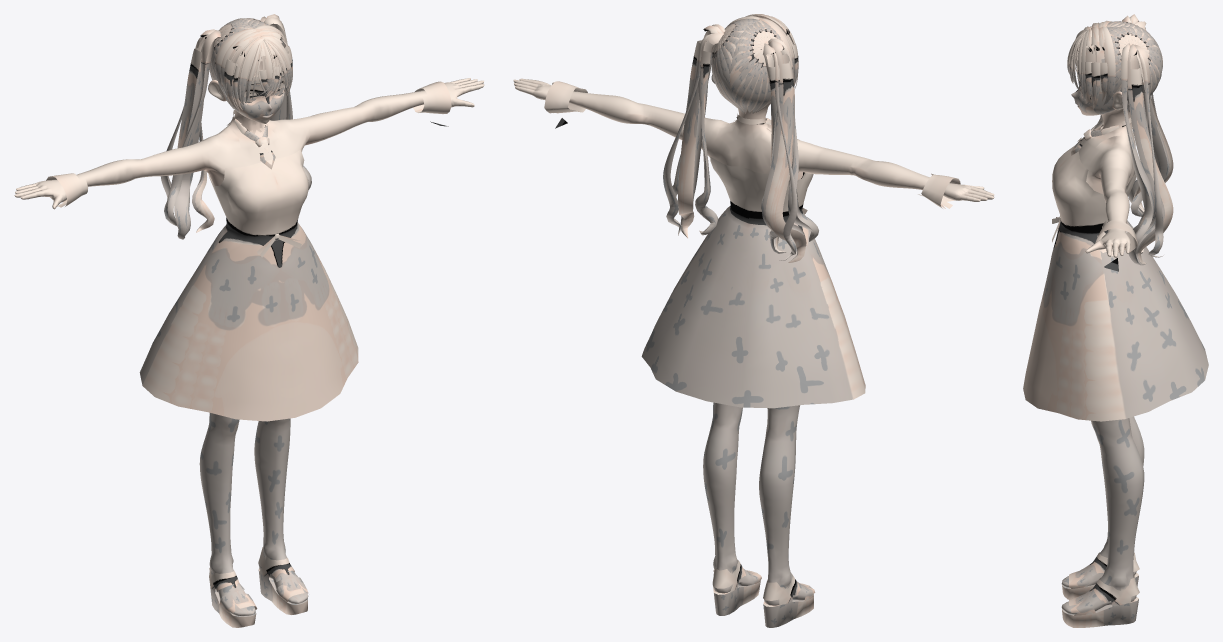
3 renders of one model, left to right at view 1: azimuth 30°, elevation 25°; view 2: azimuth 150°, elevation 25°; view 3: azimuth 270°, elevation 25°, orthographic. The views are drawn at different scales.
Visible parts, largest first — view 1: Body, Hair, Face; view 2: Body, Hair; view 3: Body, Hair, Face.
Boxes of the visible parts, box(x1,y1,x2,y2) form: Body: box(14, 61, 484, 627); Hair: box(160, 14, 311, 239); Face: box(208, 50, 287, 123); Body: box(513, 78, 994, 627); Hair: box(663, 14, 818, 262); Body: box(1023, 93, 1208, 627); Hair: box(1067, 14, 1173, 265); Face: box(1071, 46, 1127, 115).
Size of the model in its own units: 1.39 by 1.63 by 0.4717.
14 materials, 14 textured.
